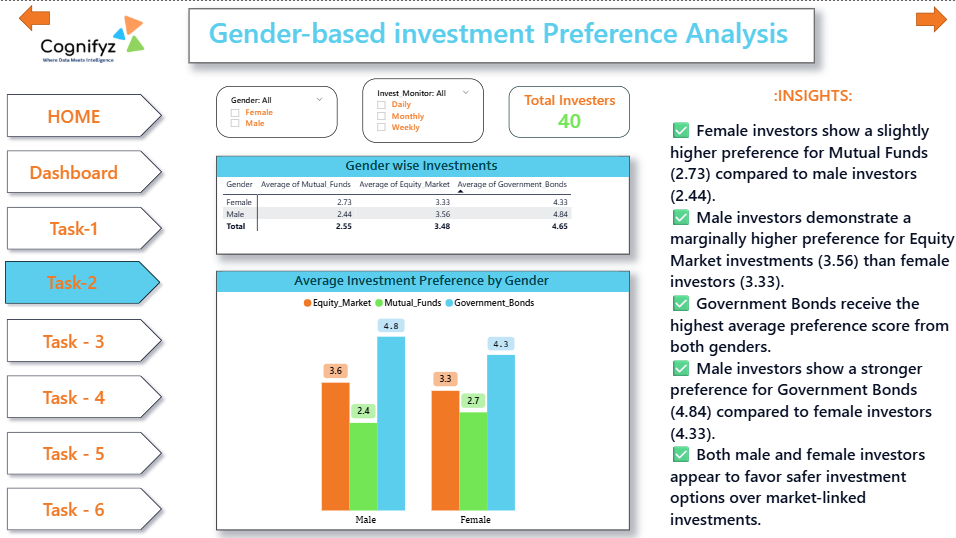

The dashboard page shown, as its layout file describes it:
{"tool":"powerbi","page":{"name":"Task-2","canvas":[1280,720],"ordinal":3},"visuals":[{"type":"pivotTable","title":"Gender wise Investments","fields":{"Values":["Avg(Data_set 2.Mutual_Funds)","Avg(Data_set 2.Equity_Market)","Avg(Data_set 2.Government_Bonds)"],"Rows":["Data_set 2.gender"]},"box":[288.6,207.1,551.4,131.4],"z":0},{"type":"clusteredColumnChart","title":"Average Investment Preference by Gender","fields":{"Category":["Data_set 2.gender"],"Y":["Avg(Data_set 2.Equity_Market)","Avg(Data_set 2.Mutual_Funds)","Avg(Data_set 2.Government_Bonds)"]},"box":[288.6,360,551.4,345.7],"z":1000},{"type":"image","box":[0,0,226.7,120],"z":2000},{"type":"shape","box":[25.7,5.7,41.4,35.7],"z":3000},{"type":"shape","box":[1221.4,7.1,41.4,35.7],"z":4000},{"type":"textbox","box":[251.4,10,834.3,72.9],"z":5000},{"type":"textbox","box":[888.6,105.7,391.4,614.3],"z":6000},{"type":"pageNavigator","box":[0,115,225,605],"z":7000},{"type":"slicer","fields":{"Values":["Data_set 2.gender"]},"box":[288.6,113.3,161.4,68.6],"z":7001},{"type":"card","title":"Total Investers","fields":{"Values":["New Measures.Total Investors"]},"box":[678.6,113.3,161.4,68.6],"z":7002},{"type":"slicer","fields":{"Values":["Data_set 2.Invest_Monitor"]},"box":[482.9,103.3,161.4,85.7],"z":7003}]}

Visuals, with their boxes in screenshot pixels (x1, y1, x2, y2), scaled from the page's 1280x720 canvas onto the 956x538 screenshot:
"Gender wise Investments" pivotTable: (216,155,627,253)
"Average Investment Preference by Gender" clusteredColumnChart: (216,269,627,527)
image: (0,0,169,90)
shape: (19,4,50,31)
shape: (912,5,943,32)
textbox: (188,7,811,62)
textbox: (664,79,955,537)
pageNavigator: (0,86,168,537)
slicer - Data_set 2.gender: (216,85,336,136)
"Total Investers" card: (507,85,627,136)
slicer - Data_set 2.Invest_Monitor: (361,77,481,141)
